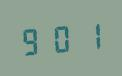nine: (18, 23, 45, 57)
one: (75, 18, 102, 52)
zero: (47, 21, 74, 54)
